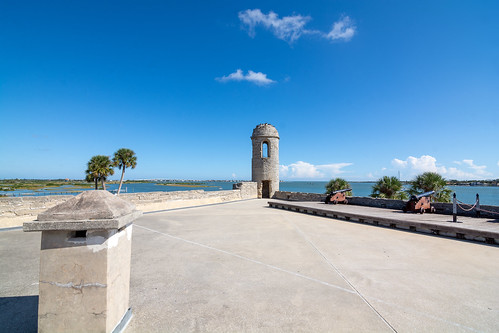building: (249, 120, 282, 200)
sea: (283, 180, 499, 206), (1, 176, 242, 194)
sky: (1, 1, 493, 174)
tree: (111, 144, 140, 197), (86, 155, 118, 200), (411, 169, 451, 200), (370, 172, 406, 200), (323, 175, 351, 199)
